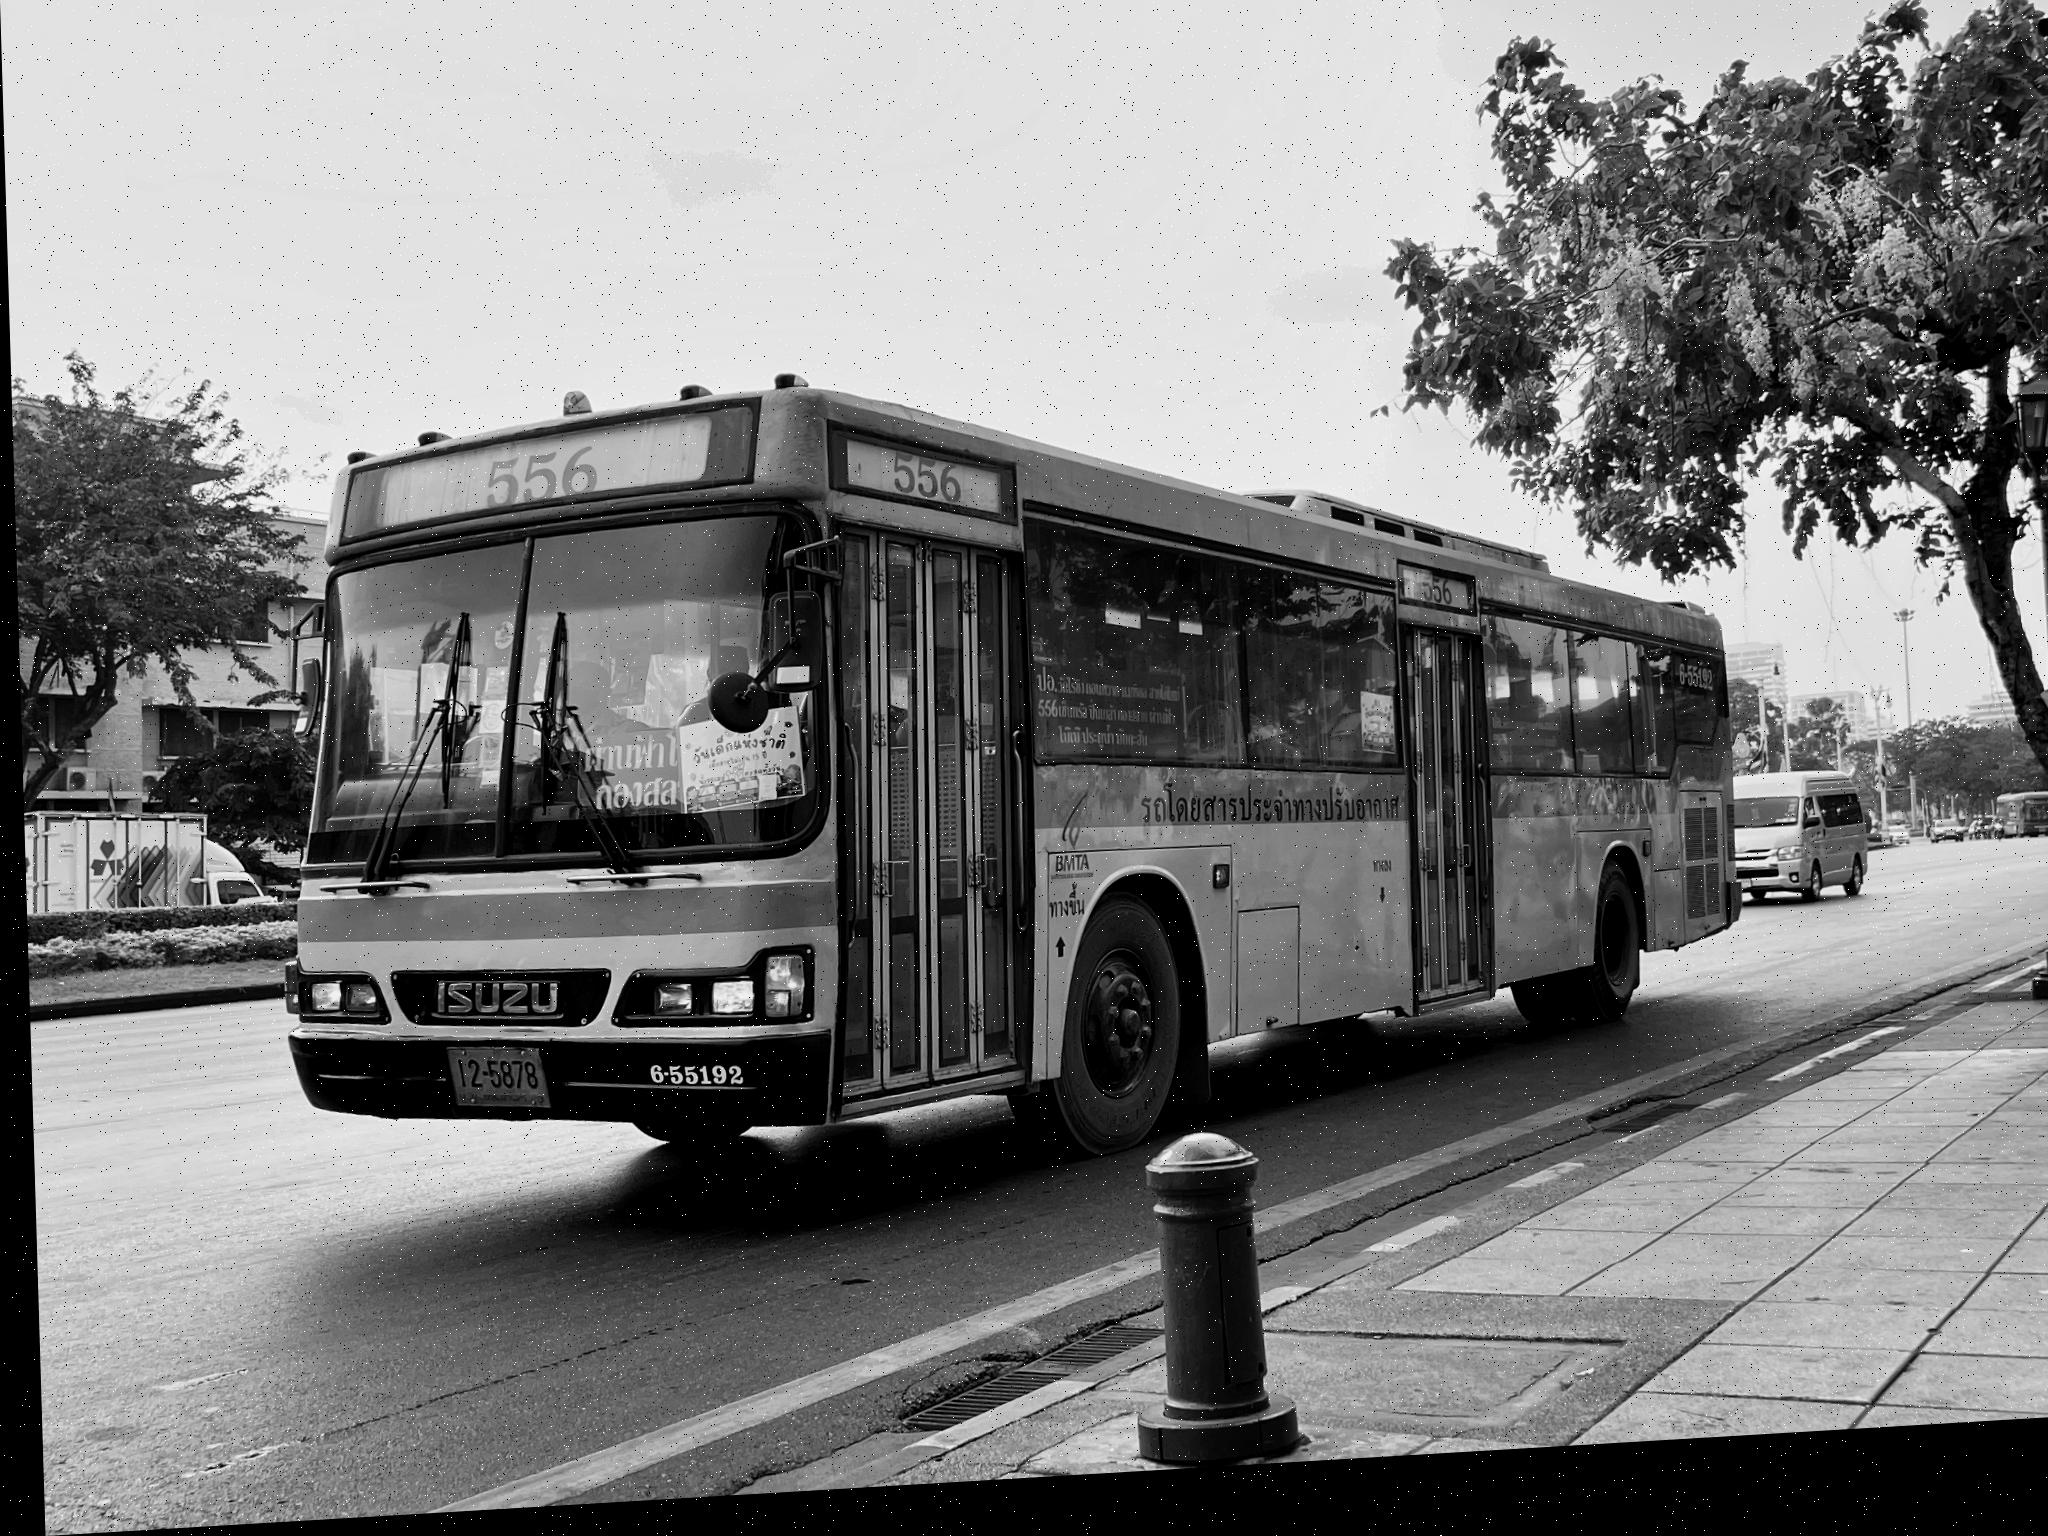BMTA-bus: (274, 386, 1737, 1173)
Bus Line Number: (453, 450, 621, 526), (876, 450, 969, 531), (1403, 578, 1458, 634)
Bus Side Number: (631, 1050, 760, 1117)
Destination Sign: (568, 728, 682, 831)
